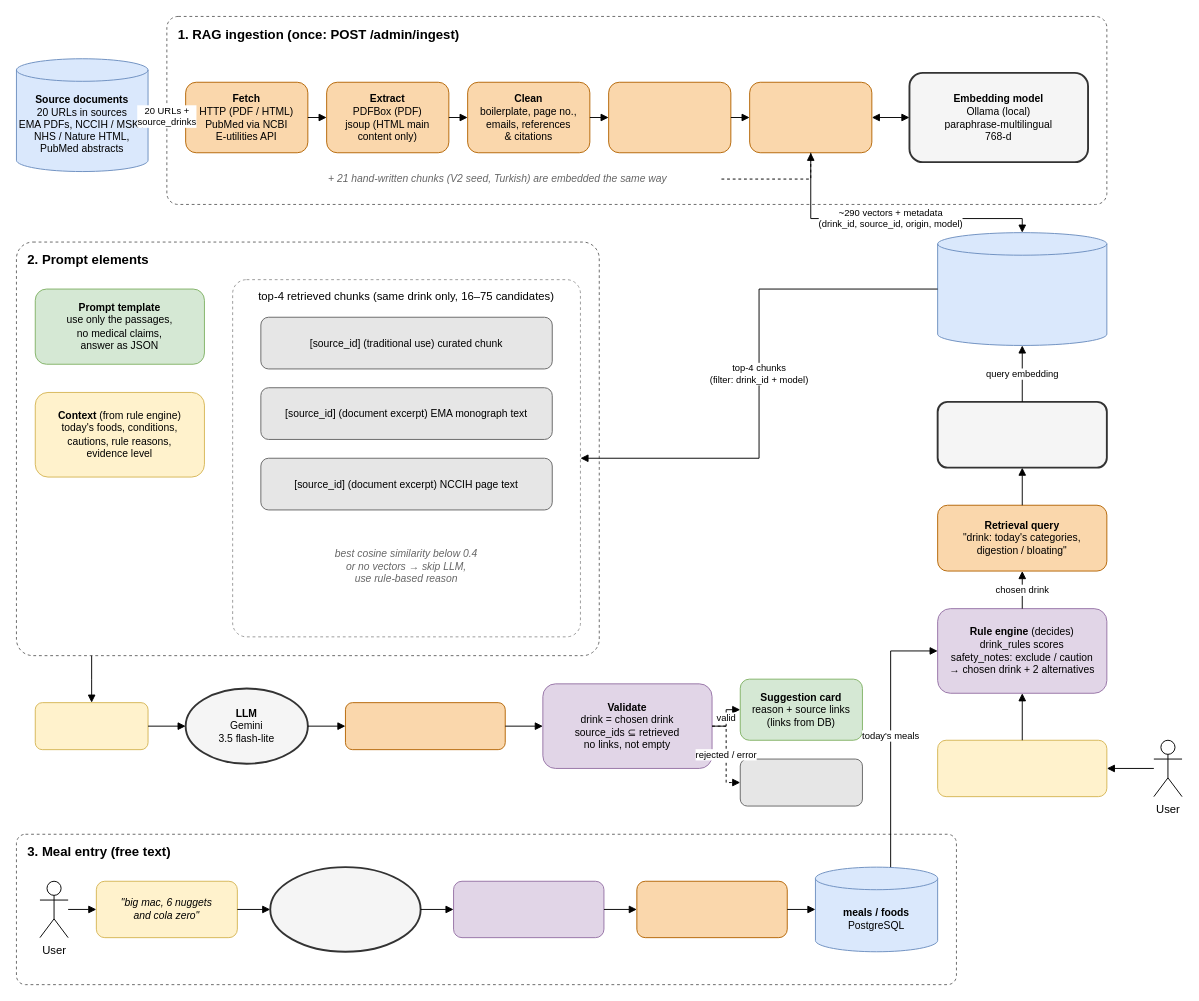
Some shapes in this 1199 by 1001 pixel diagram are drawn without their labels. Here are the shapes that lost their labels. From the top down, the centre of each, then its label:
the point at 669,117: Chunk ~150 words, sentence-aware, 30-word overlap
the point at 810,117: Embed prefix "name_tr (name_en):"
the point at 1022,288: Vector DB PostgreSQL + pgvector knowledge_chunks
the point at 1021,434: Embedding model Ollama (same model)
the point at 91,726: Prompt
the point at 425,726: JSON {drink, reason, source_ids}
the point at 800,782: Fallback rule-based reason
the point at 1022,768: Get suggestion conditions, evening
the point at 345,909: LLM (Gemini) split into items: name_en, category, portion
the point at 528,909: Validate known category or none, portion 1–2000 g
the point at 711,909: USDA FoodData Central kcal / 100 g (cached)
